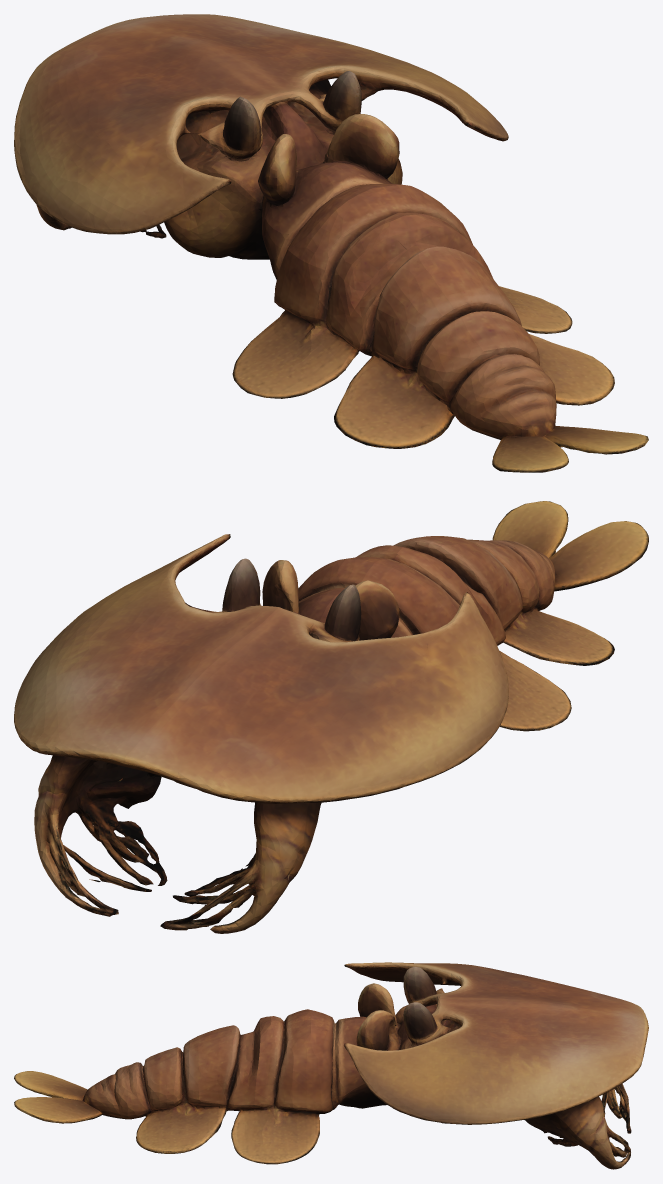
3 renders of one model, top to bottom at view 1: azimuth 30°, elevation 25°; view 2: azimuth 150°, elevation 25°; view 3: azimuth 270°, elevation 25°, orthographic. The views are drawn at different scales.
Parts seen in each view (by area): view 1: world; view 2: world; view 3: world.
Part boxes in pixels (box(x1,y1,x2,y2)): world: box(14, 14, 648, 472); world: box(14, 501, 648, 933); world: box(14, 962, 648, 1169).
Size of the model in its own units: 0.5242 by 0.2786 by 1.
1 material, 1 textured.
